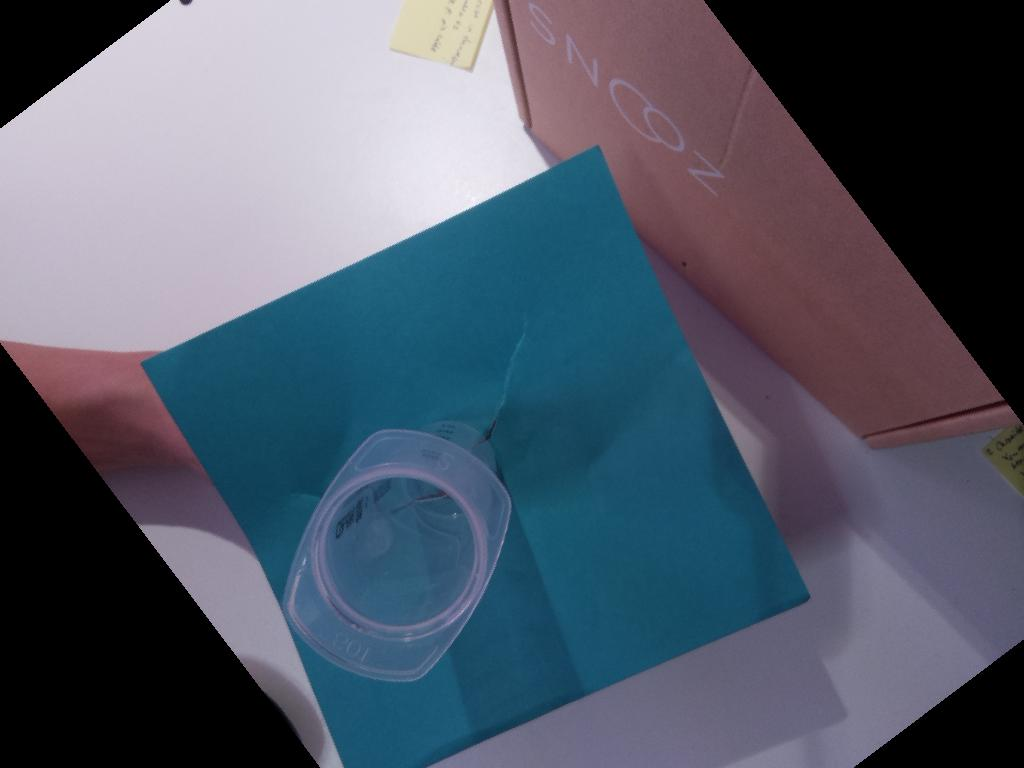clean: (276, 425, 514, 682)
